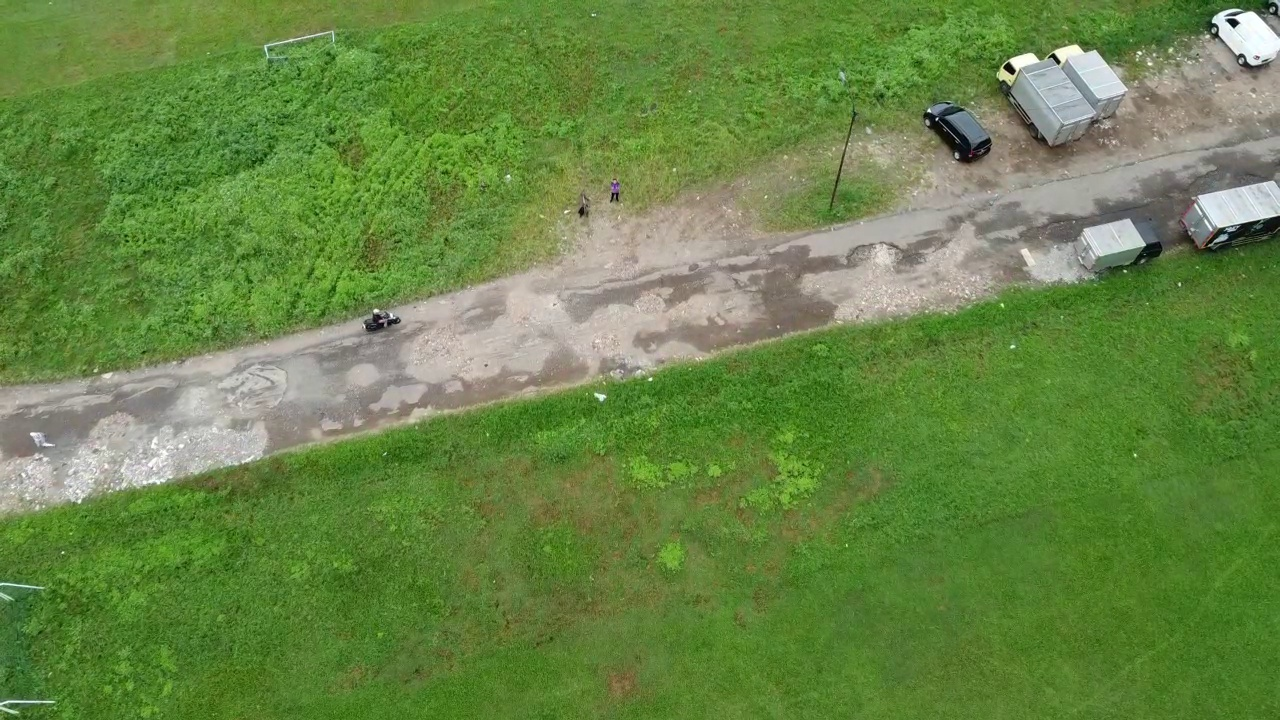mobil: (913, 93, 999, 167), (1203, 1, 1280, 74)
